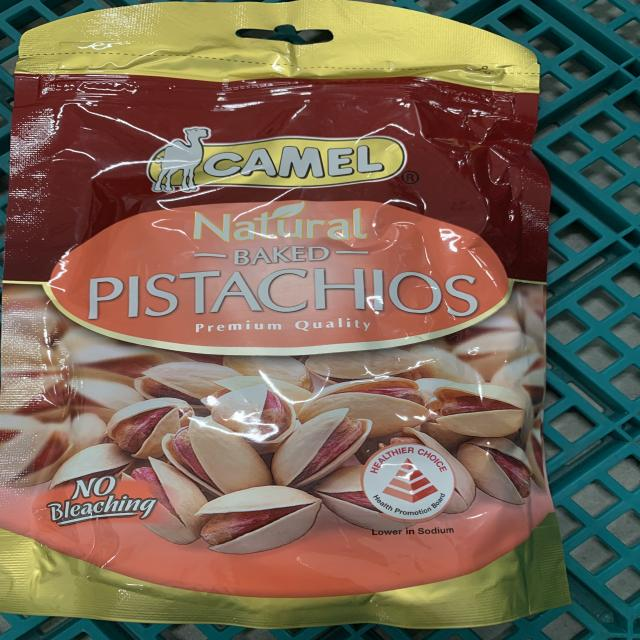object_name: (15, 14, 555, 622)
